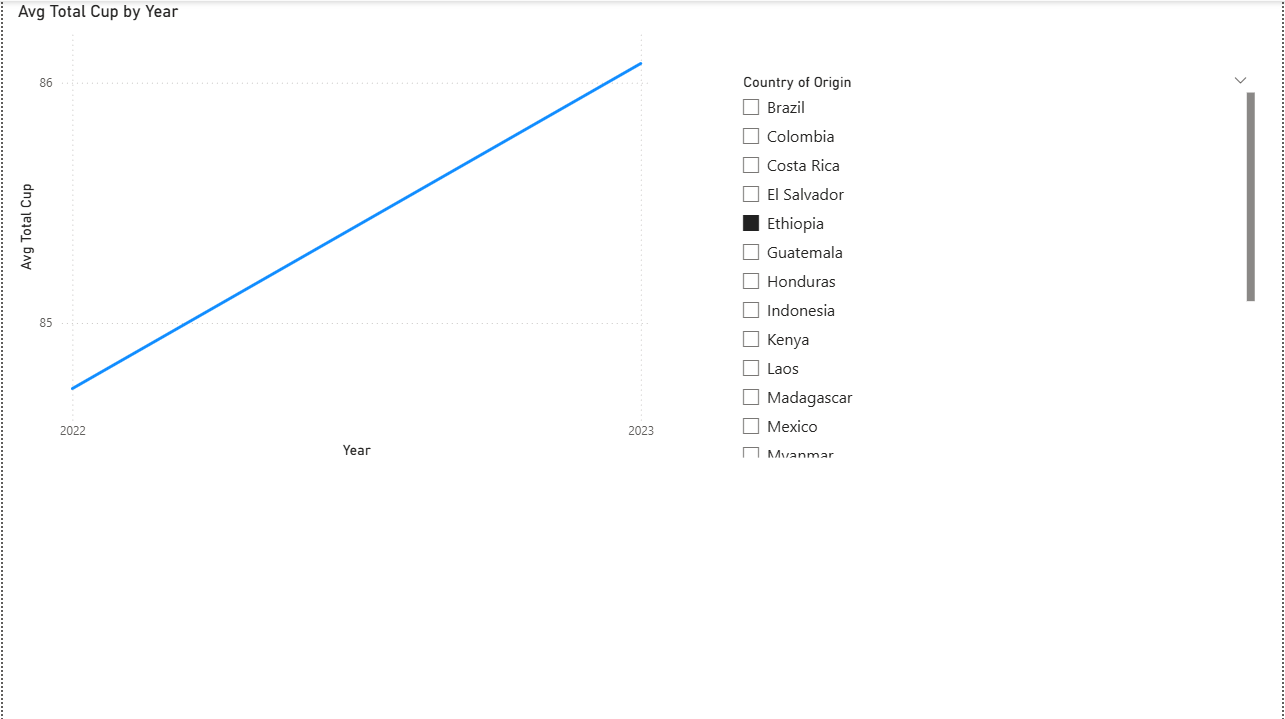

This screenshot's page, from the dashboard's own definition file:
{"tool":"powerbi","page":{"name":"Page 4","canvas":[1280,720],"ordinal":3},"visuals":[{"type":"lineChart","fields":{"Category":["df_arabica_clean.GradingDate__cleaning .Variation.Date Hierarchy.Year","df_arabica_clean.GradingDate__cleaning .Variation.Date Hierarchy.Quarter","df_arabica_clean.GradingDate__cleaning .Variation.Date Hierarchy.Month","df_arabica_clean.GradingDate__cleaning .Variation.Date Hierarchy.Day"],"Y":["df_arabica_clean.Avg Total Cup"]},"box":[9.9,0,646.2,461.8],"z":0},{"type":"slicer","fields":{"Values":["df_arabica_clean.Country of Origin"]},"box":[727.9,67.6,529.4,394.2],"z":1}]}

Visuals, with their boxes in screenshot pixels (x1, y1, x2, y2), scaled from the page's 1280x720 canvas onto the 1285x719 screenshot:
lineChart - df_arabica_clean.GradingDate__cleaning .Variation.Date Hierarchy.Year x df_arabica_clean.GradingDate__cleaning .Variation.Date Hierarchy.Quarter: detection(10, 0, 659, 461)
slicer - df_arabica_clean.Country of Origin: detection(731, 68, 1262, 461)
